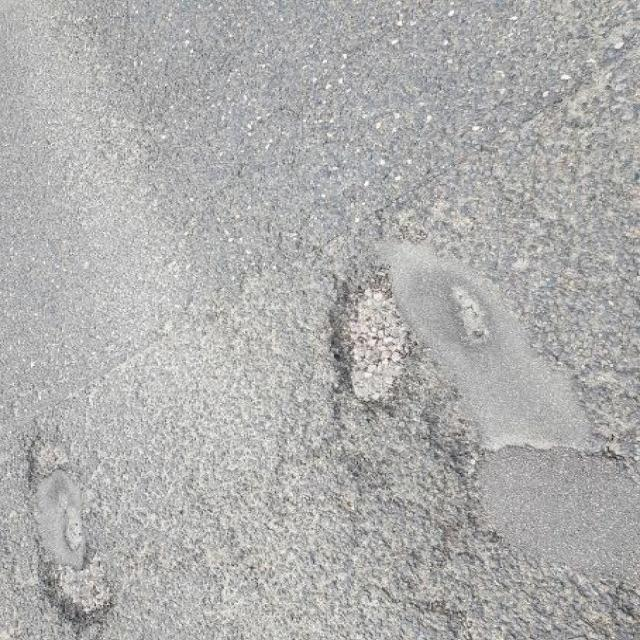Pothole: (20, 422, 123, 632), (321, 249, 431, 412)
